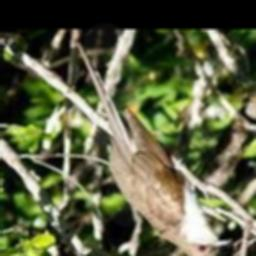Cuckoo: (76, 42, 233, 256)
